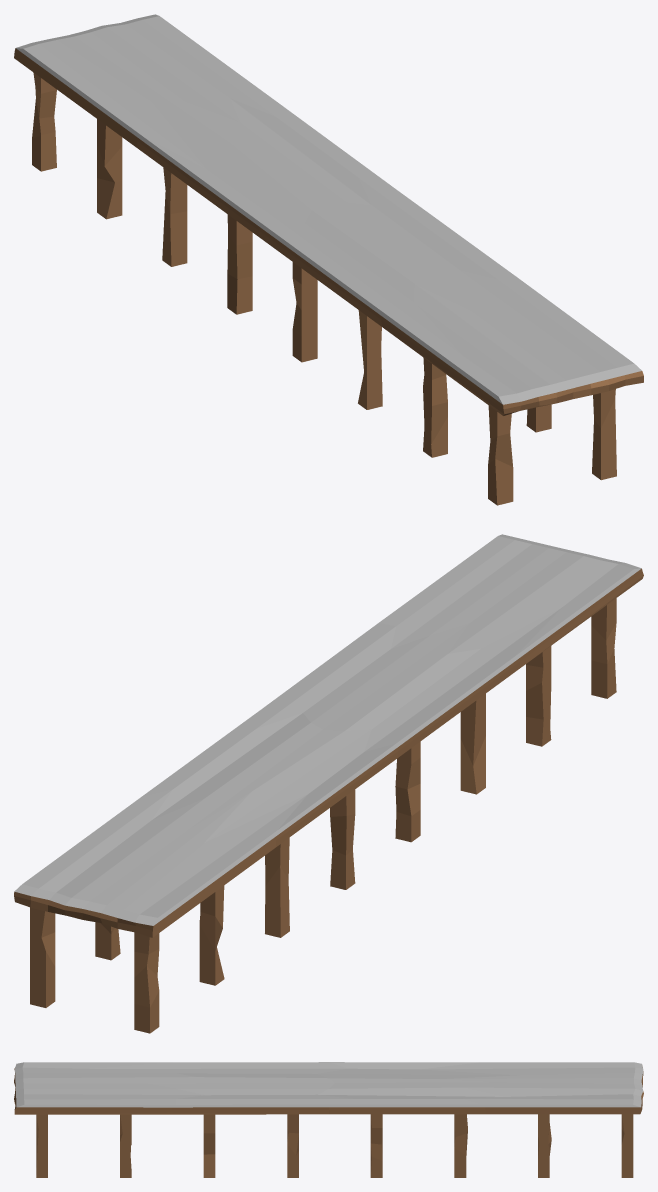
Rendered from Footbridge_1 Winter.fbx.
3 renders of one model, top to bottom at view 1: azimuth 30°, elevation 25°; view 2: azimuth 150°, elevation 25°; view 3: azimuth 270°, elevation 25°, orthographic. The views are drawn at different scales.
Visible parts, largest first — view 1: Footbridge_mesh.001; view 2: Footbridge_mesh.001; view 3: Footbridge_mesh.001.
Part boxes in pixels (x1,y1,x2,y2): Footbridge_mesh.001: (14, 14, 643, 505); Footbridge_mesh.001: (14, 534, 643, 1033); Footbridge_mesh.001: (14, 1062, 643, 1177).
Bounding box in the file's own units: 211 × 172 × 1280.
